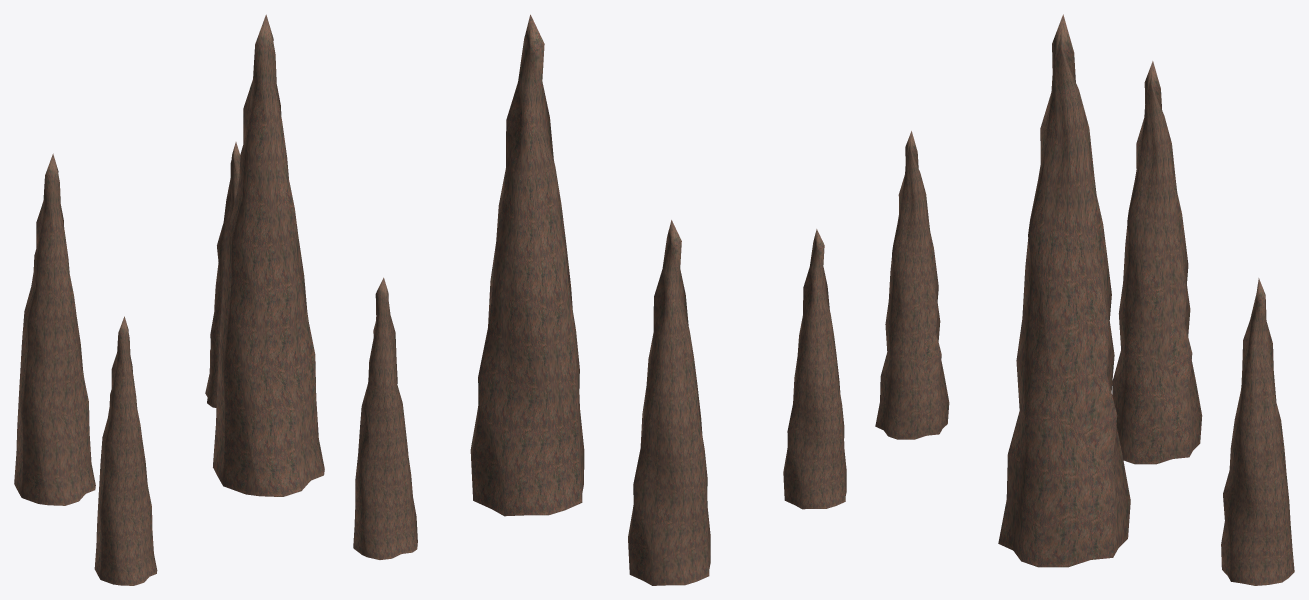
The model's file is cave_objects_stalag3.glb.
The picture shows the model from 3 angles, left to right: view 1: azimuth 30°, elevation 25°; view 2: azimuth 150°, elevation 25°; view 3: azimuth 270°, elevation 25°; orthographic projection. The views are drawn at different scales.
Visible parts, largest first — view 1: stalag3-col; view 2: stalag3-col; view 3: stalag3-col.
Part boxes in pixels (x1=…): stalag3-col: x1=14, y1=14, x2=324, y2=585; stalag3-col: x1=353, y1=14, x2=846, y2=585; stalag3-col: x1=875, y1=14, x2=1294, y2=585.
Bounding box in the file's own units: 1.37 × 1.93 × 1.38.
1 material, 1 textured.
